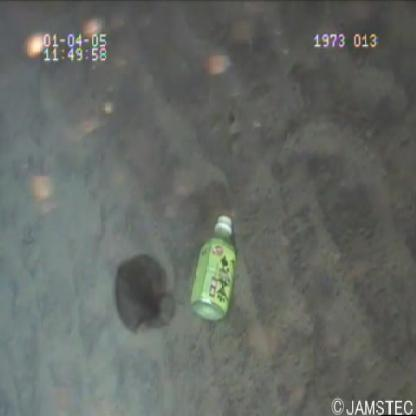Rác: (187, 207, 240, 334)
